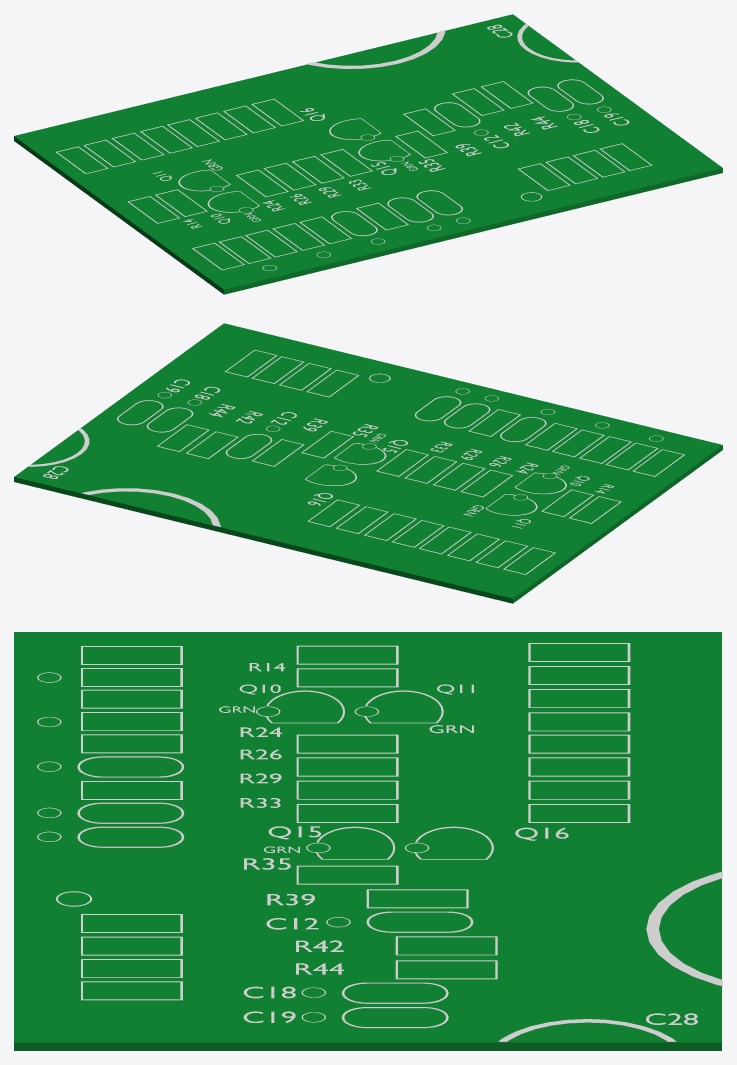
The model's file is ecb_board.gltf.
3 views of the same model, one above another, from view 1: azimuth 30°, elevation 25°; view 2: azimuth 150°, elevation 25°; view 3: azimuth 270°, elevation 25° (orthographic). The views are drawn at different scales.
Visible parts, largest first — view 1: board, Cylinder.009; view 2: board, Cylinder.009; view 3: board, Cylinder.009, Cylinder.008.
Boxes of the visible parts, <box> form: board: <box>14,14,722,294</box>; Cylinder.009: <box>306,30,445,68</box>; board: <box>14,323,722,603</box>; Cylinder.009: <box>81,488,220,527</box>; board: <box>14,632,721,1050</box>; Cylinder.009: <box>646,871,722,986</box>; Cylinder.008: <box>498,1019,676,1041</box>.
Size of the model in its own units: 0.3647 by 0.00402 by 0.2662.
